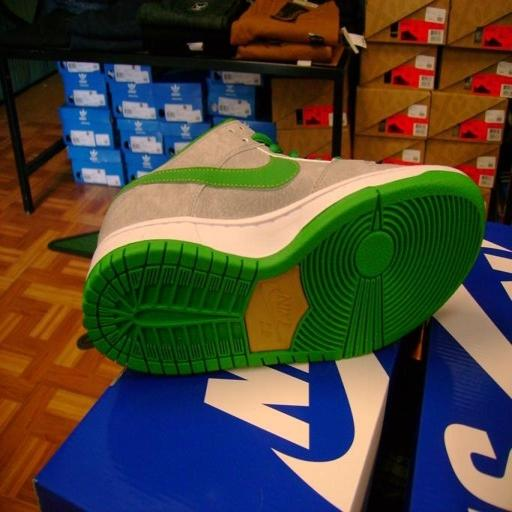shoe: (83, 121, 485, 375)
